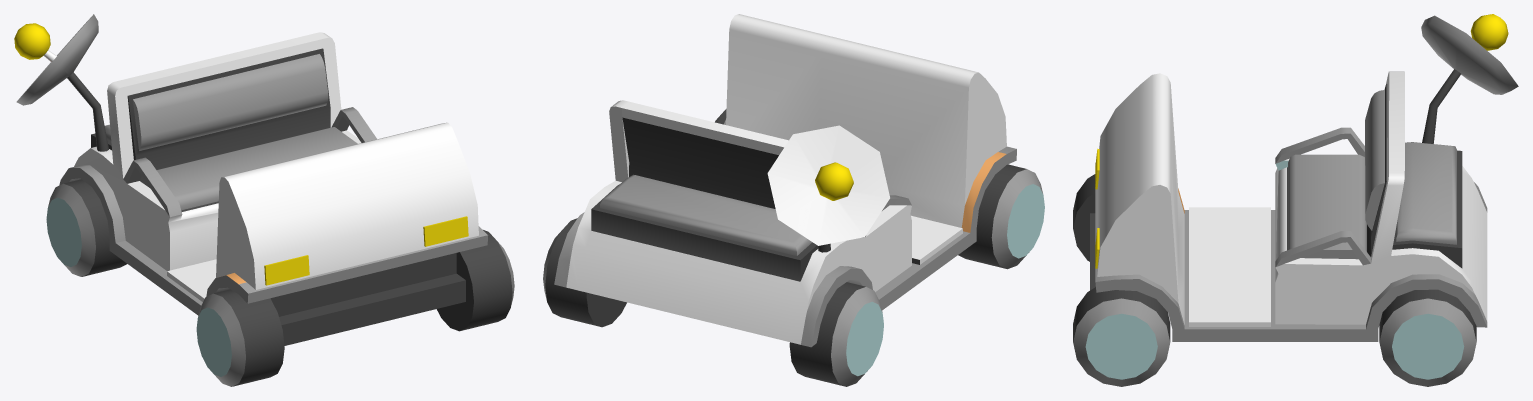
The model's file is Cart_5.fbx.
3 renders of one model, left to right at view 1: azimuth 30°, elevation 25°; view 2: azimuth 150°, elevation 25°; view 3: azimuth 270°, elevation 25°, orthographic. The views are drawn at different scales.
Visible parts, largest first — view 1: Cube.001; view 2: Cube.001; view 3: Cube.001.
Boxes of the visible parts, x1=… form: Cube.001: x1=14, y1=14, x2=514, y2=386; Cube.001: x1=543, y1=14, x2=1044, y2=386; Cube.001: x1=1073, y1=14, x2=1518, y2=386.
Bounding box in the file's own units: 215 × 157 × 260.
